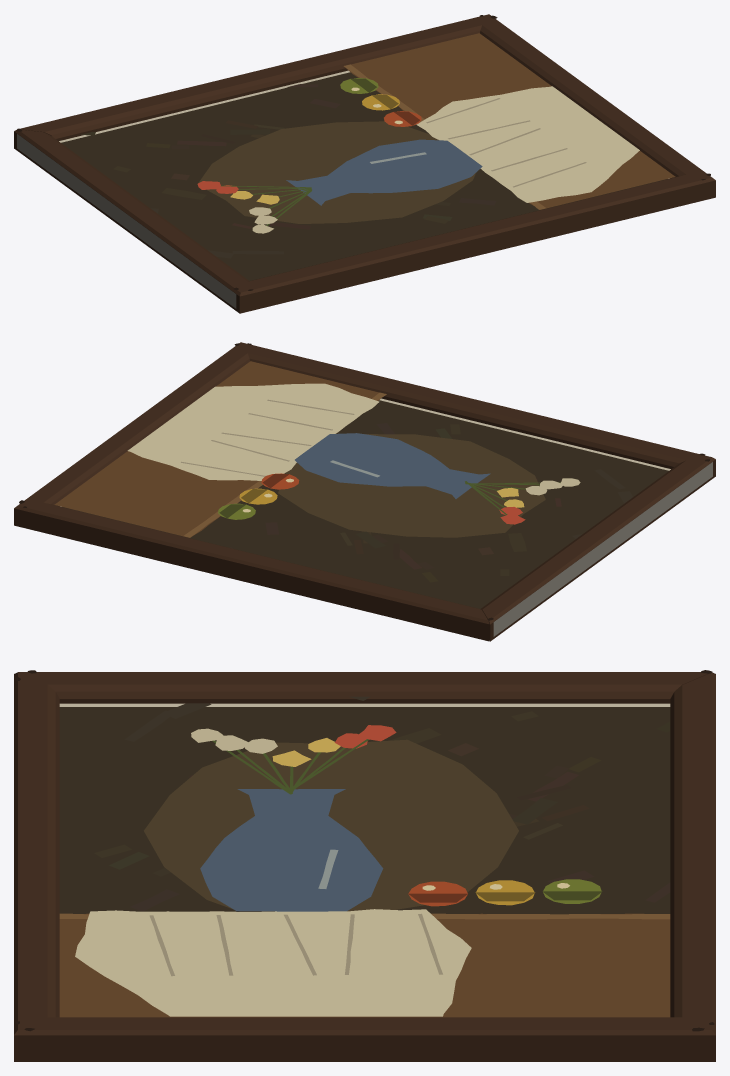
The model's file is painting_floor@1.glb.
3 renders of one model, top to bottom at view 1: azimuth 30°, elevation 25°; view 2: azimuth 150°, elevation 25°; view 3: azimuth 270°, elevation 25°, orthographic. The views are drawn at different scales.
Parts seen in each view (by area): view 1: bild; view 2: bild; view 3: bild.
Part boxes in pixels (x1,y1,x2,y2): bild: (14, 14, 715, 313); bild: (14, 342, 715, 641); bild: (14, 670, 715, 1061).
Size of the model in its own units: 0.8408 by 0.04 by 0.69.
